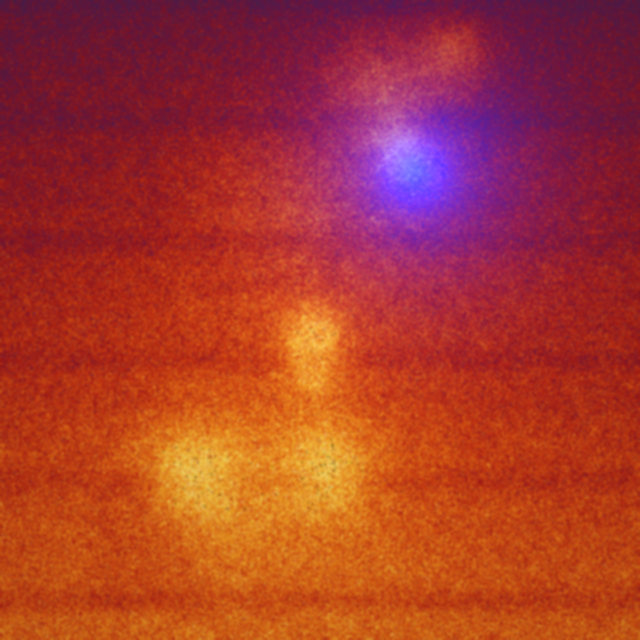nozzle: (359, 127, 467, 228)
